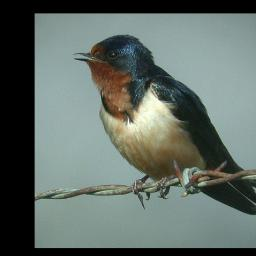Swallow: (73, 34, 256, 216)
